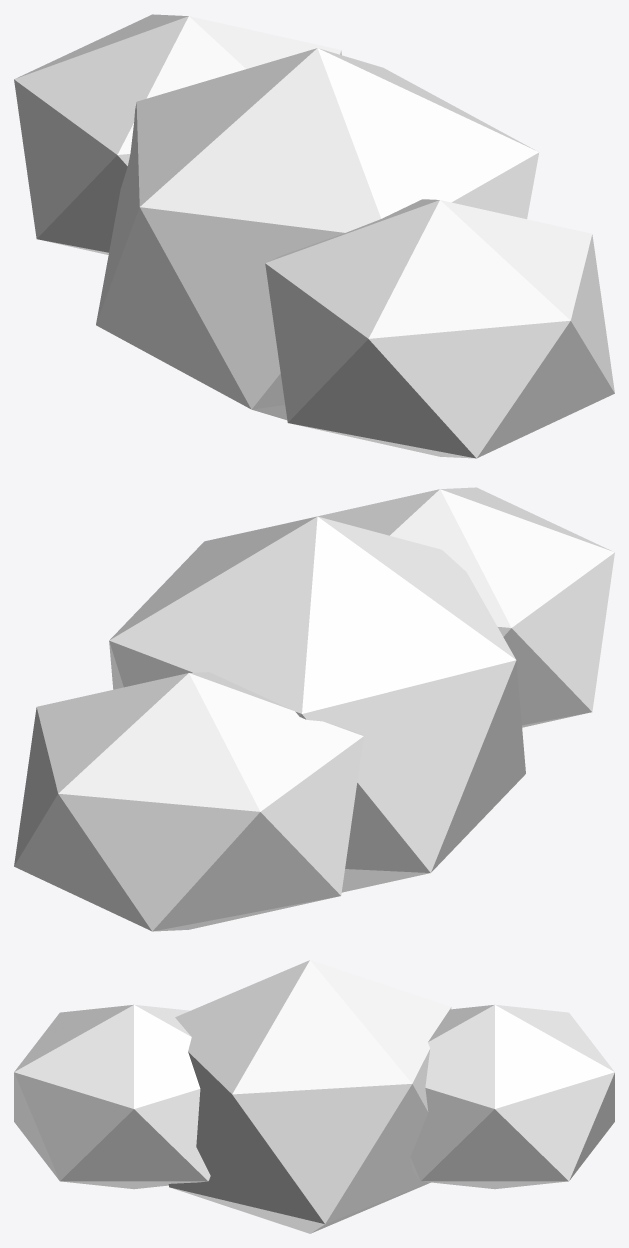
The model's file is Bush.fbx.
The picture shows the model from 3 angles, top to bottom: view 1: azimuth 30°, elevation 25°; view 2: azimuth 150°, elevation 25°; view 3: azimuth 270°, elevation 25°; orthographic projection. The views are drawn at different scales.
Parts seen in each view (by area): view 1: Bush; view 2: Bush; view 3: Bush.
Part boxes in pixels (x1,y1,x2,y2): Bush: [14, 14, 614, 458]; Bush: [14, 487, 614, 931]; Bush: [14, 960, 614, 1233].
Bounding box in the file's own units: 196 × 190 × 378.
